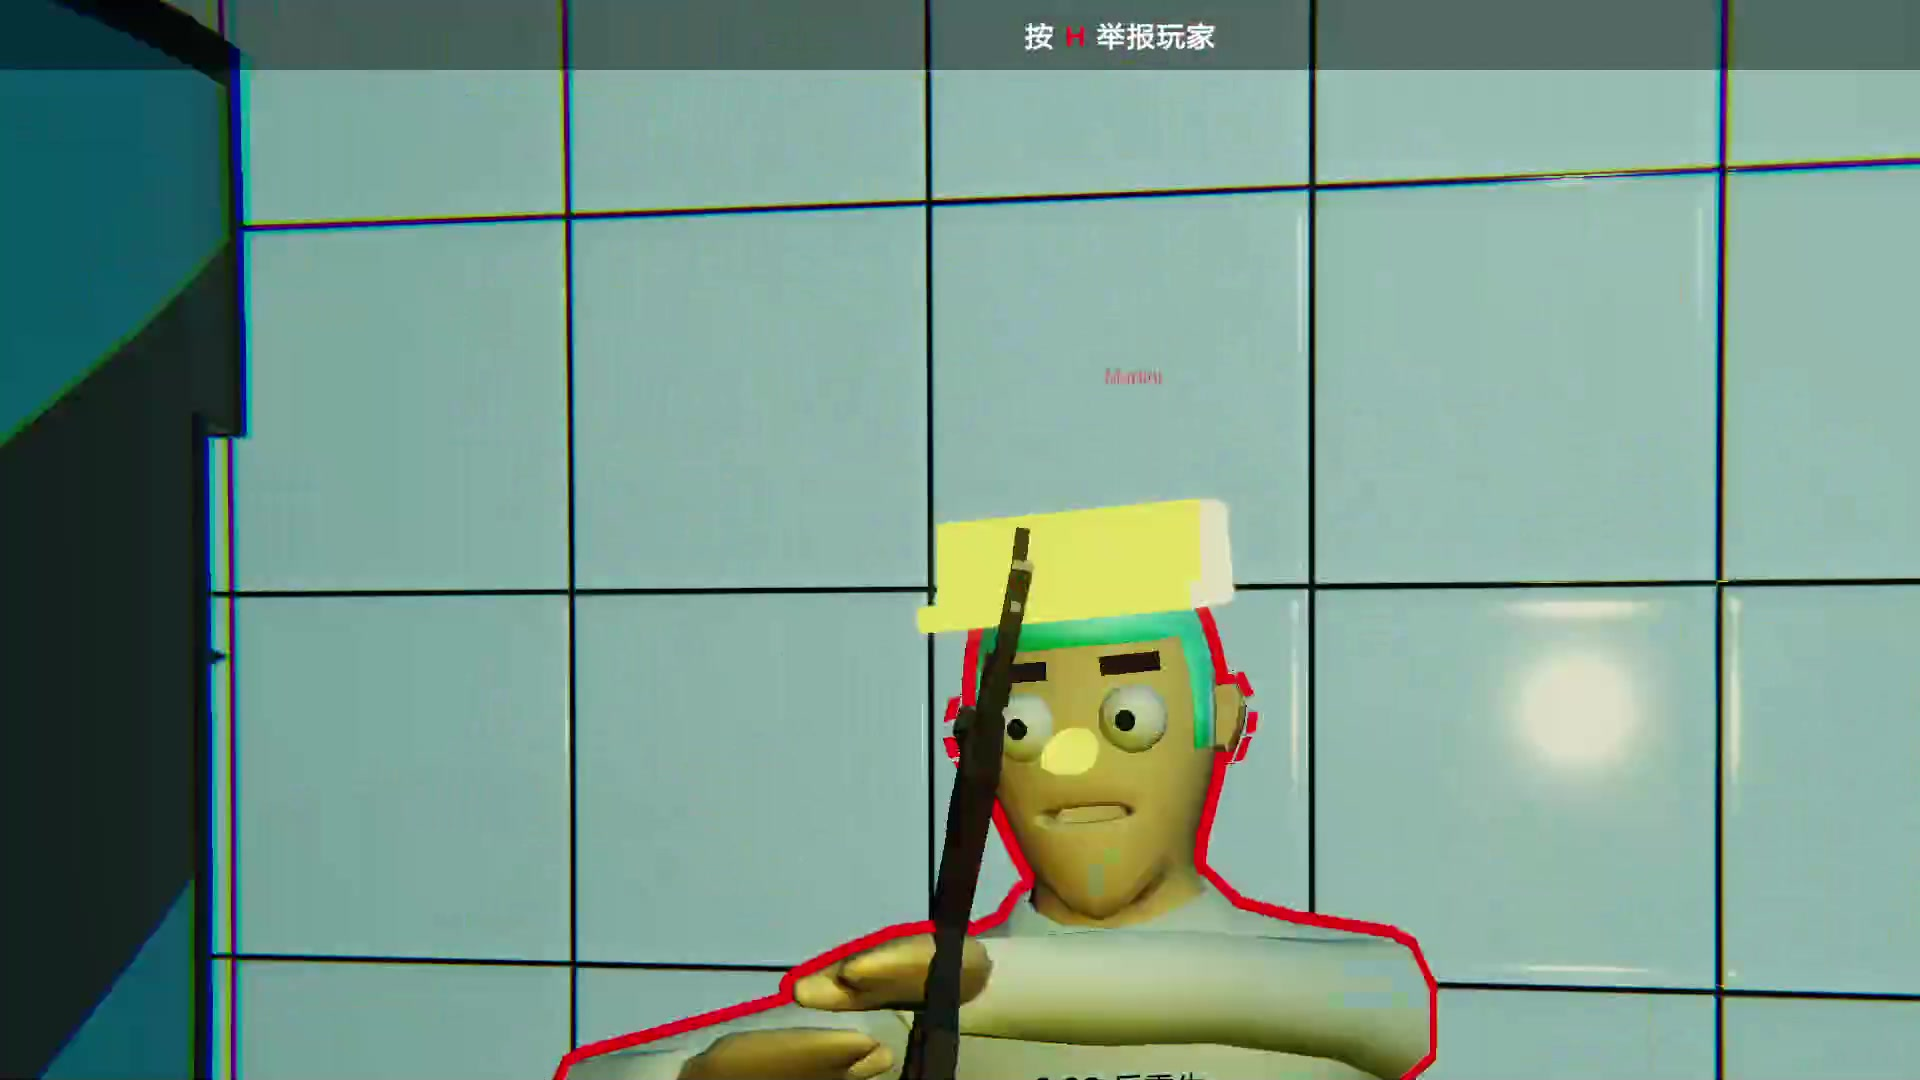human: (951, 530, 1396, 1079)
